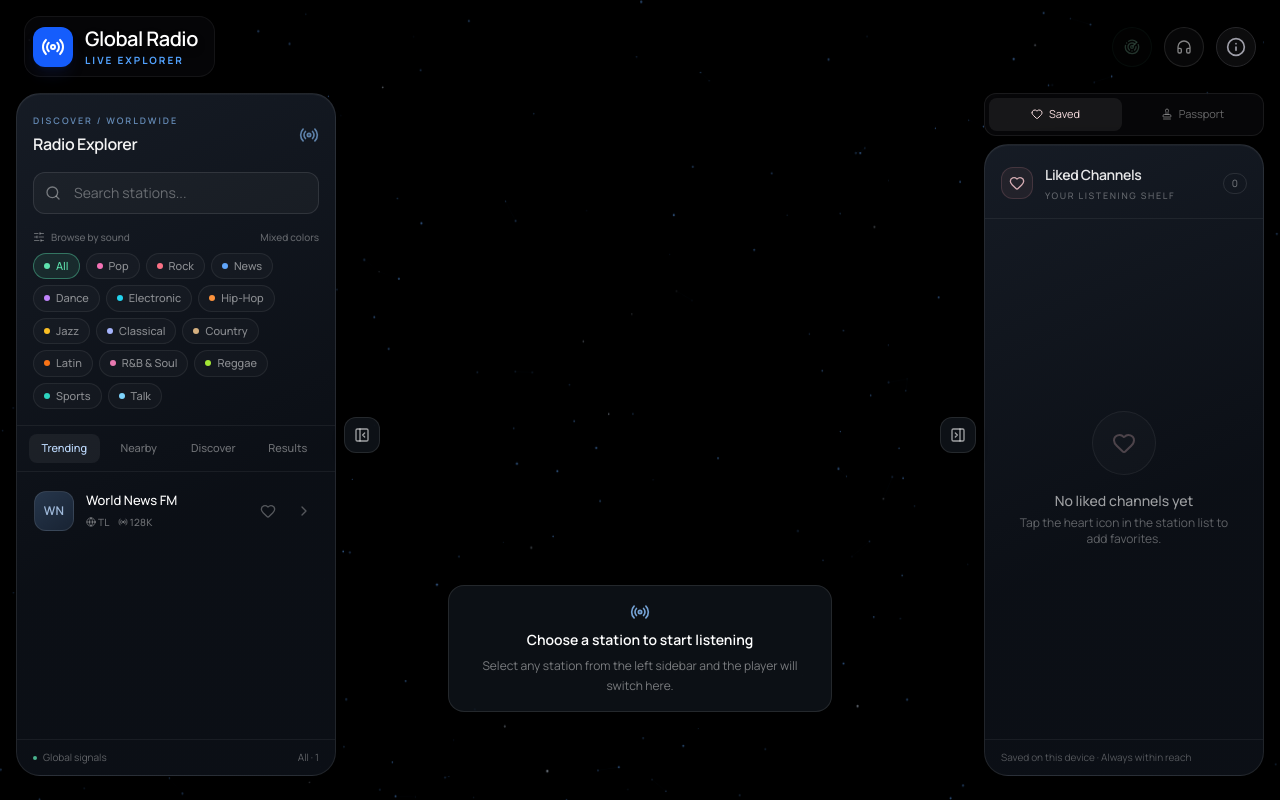
Scenario: App › shows a retryable search error and recovers on retry
Expected: the button "WN World News FM TL 128k" is shown, [34,490,246,530]
Type "jazz" into the field with placeholder "Search stations...". click: (176, 192)
box: [33,172,319,214]
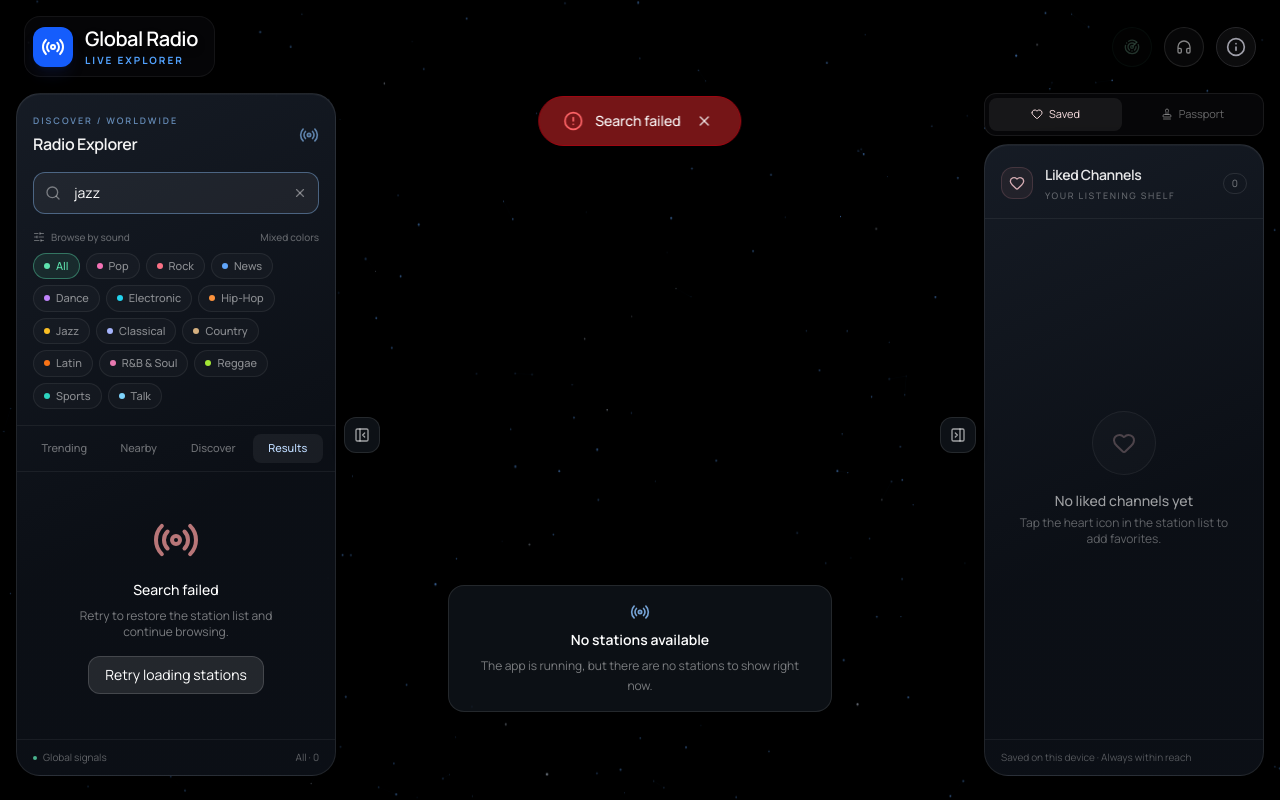
Expected: the text "Search failed" is shown 2 times, [133,580,219,599]; [595,110,681,132]
Click the button "Retry loading stations". click: (176, 675)
box: [88,656,264,694]
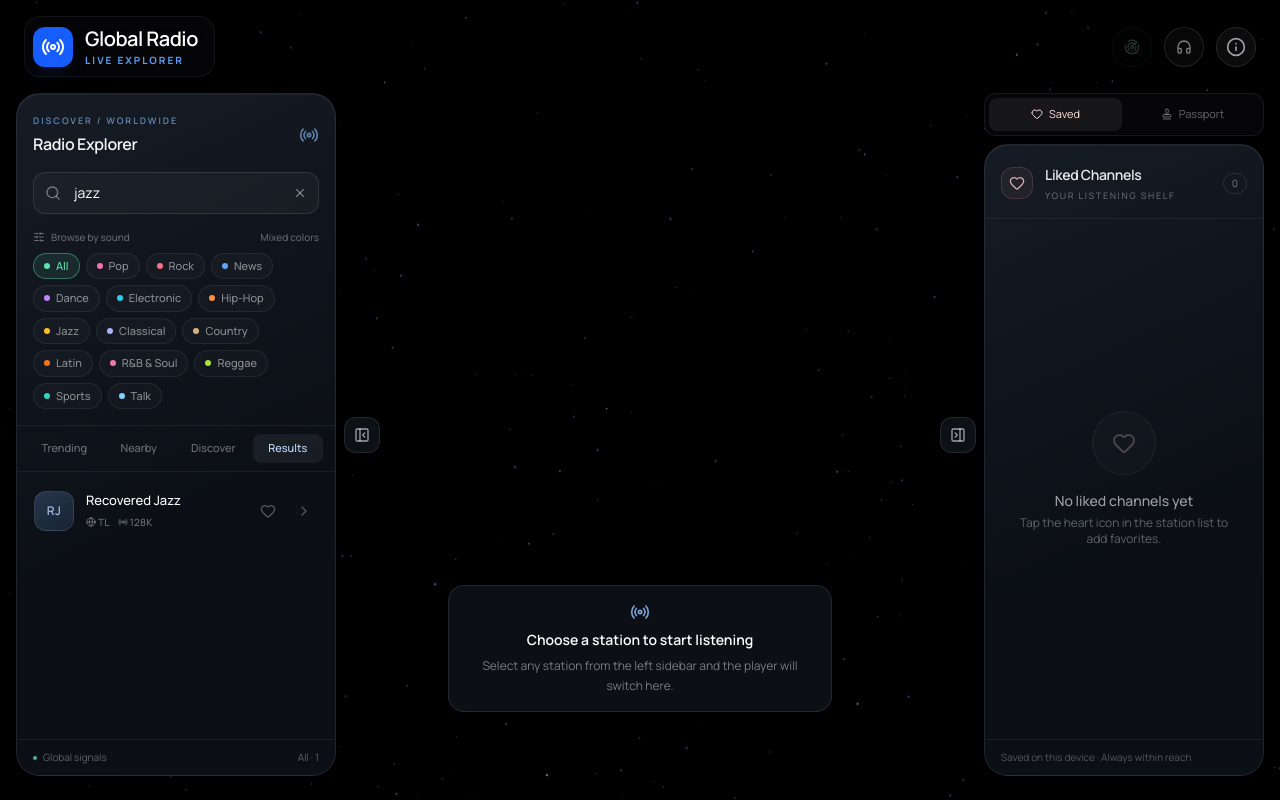
Expected: the heading "Recovered Jazz" is shown, [86,491,181,509]
